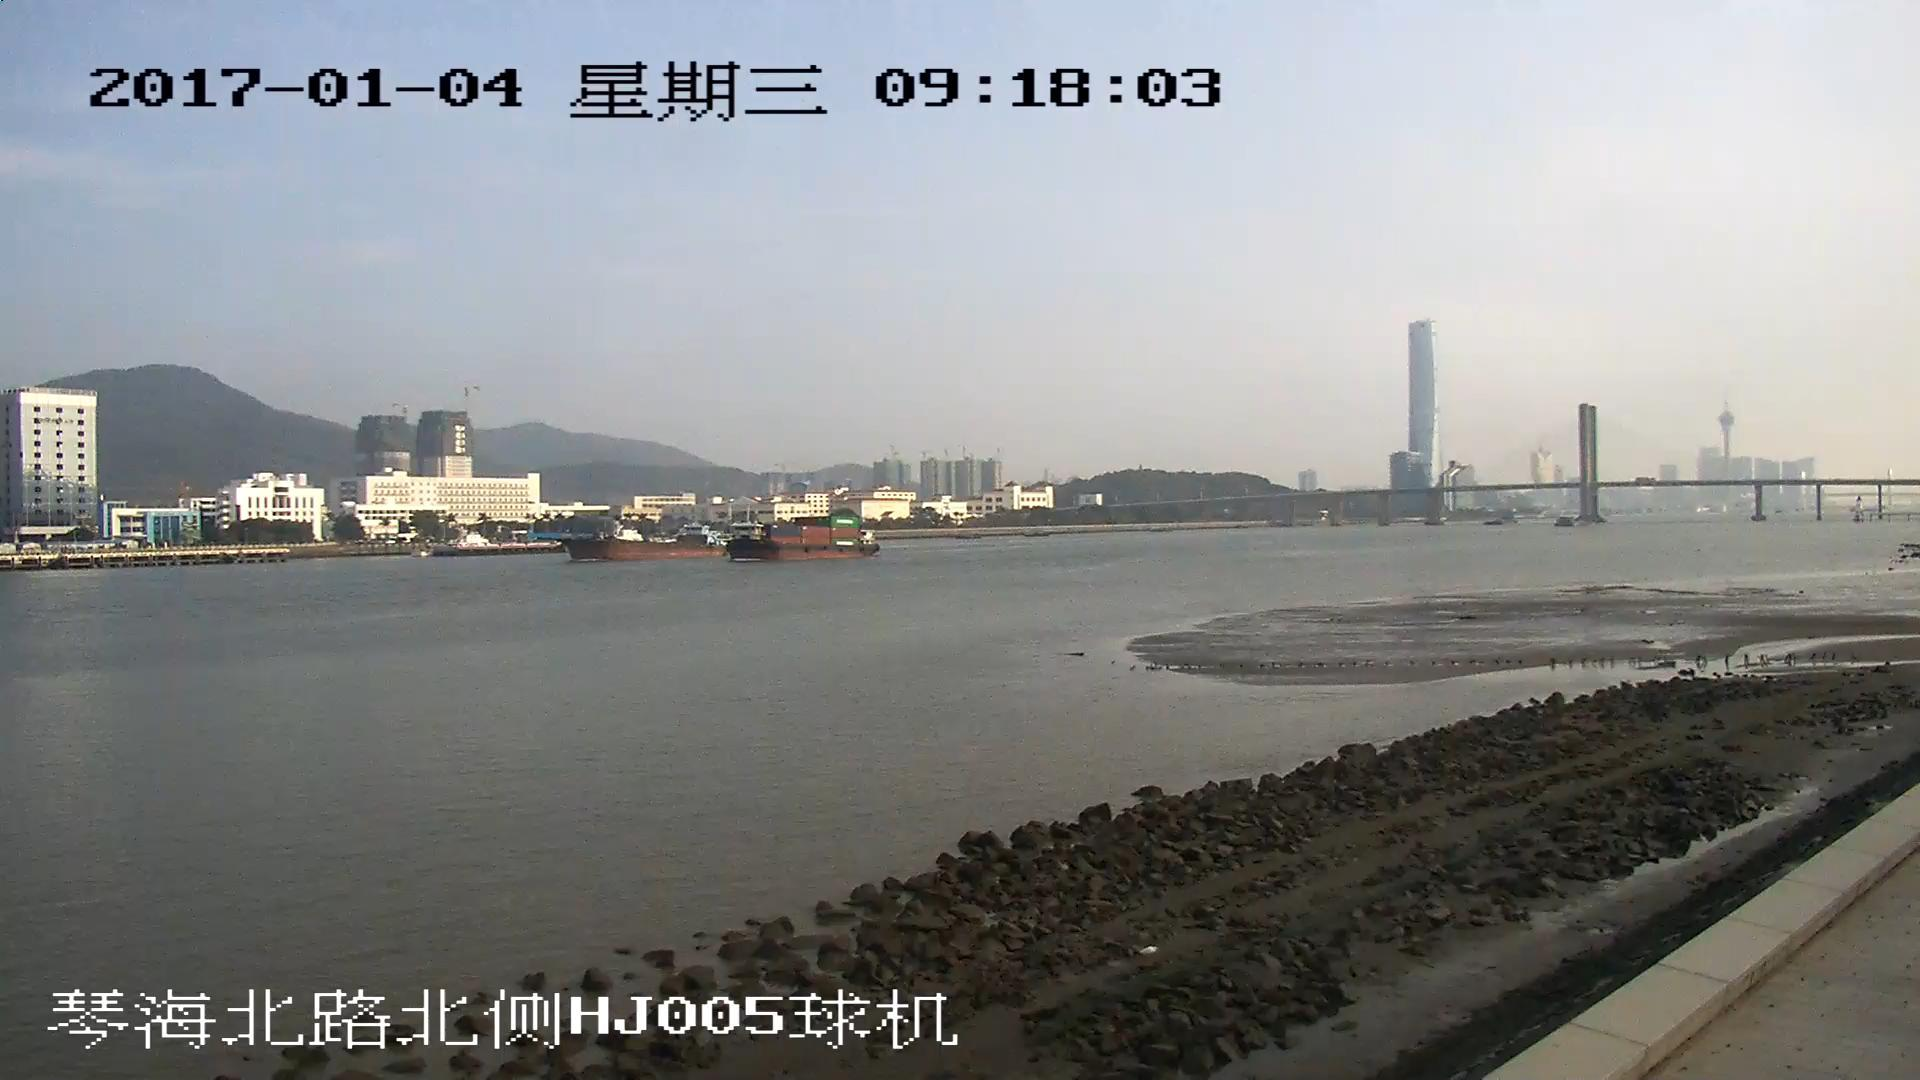Ship: (725, 513, 881, 564)
